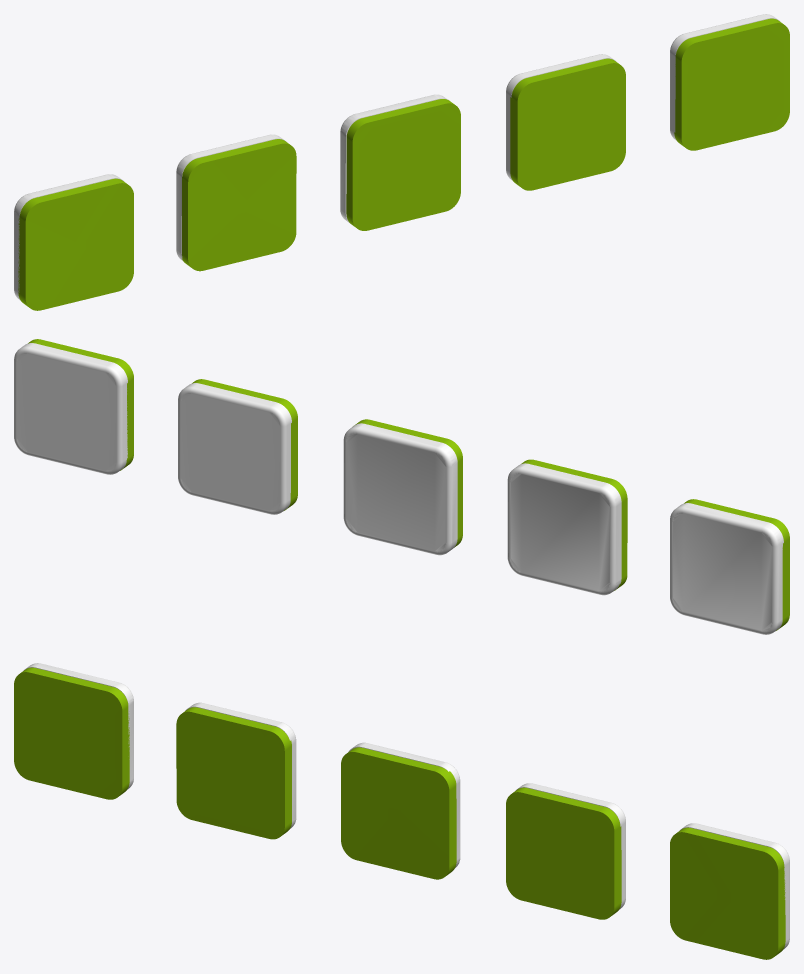
File: green.glb
3 views of the same model, one above another, from view 1: azimuth 30°, elevation 25°; view 2: azimuth 150°, elevation 25°; view 3: azimuth 330°, elevation 25° (orthographic).
Parts seen in each view (by area): view 1: Product.010; view 2: Product.010; view 3: Product.010.
Part boxes in pixels (box(x1,y1,x2,y2)): Product.010: box(14, 14, 789, 310); Product.010: box(14, 339, 789, 634); Product.010: box(14, 663, 789, 959).
Bounding box in the file's own units: 0.1481 × 0.0201 × 0.00452.
2 materials, 1 textured.
